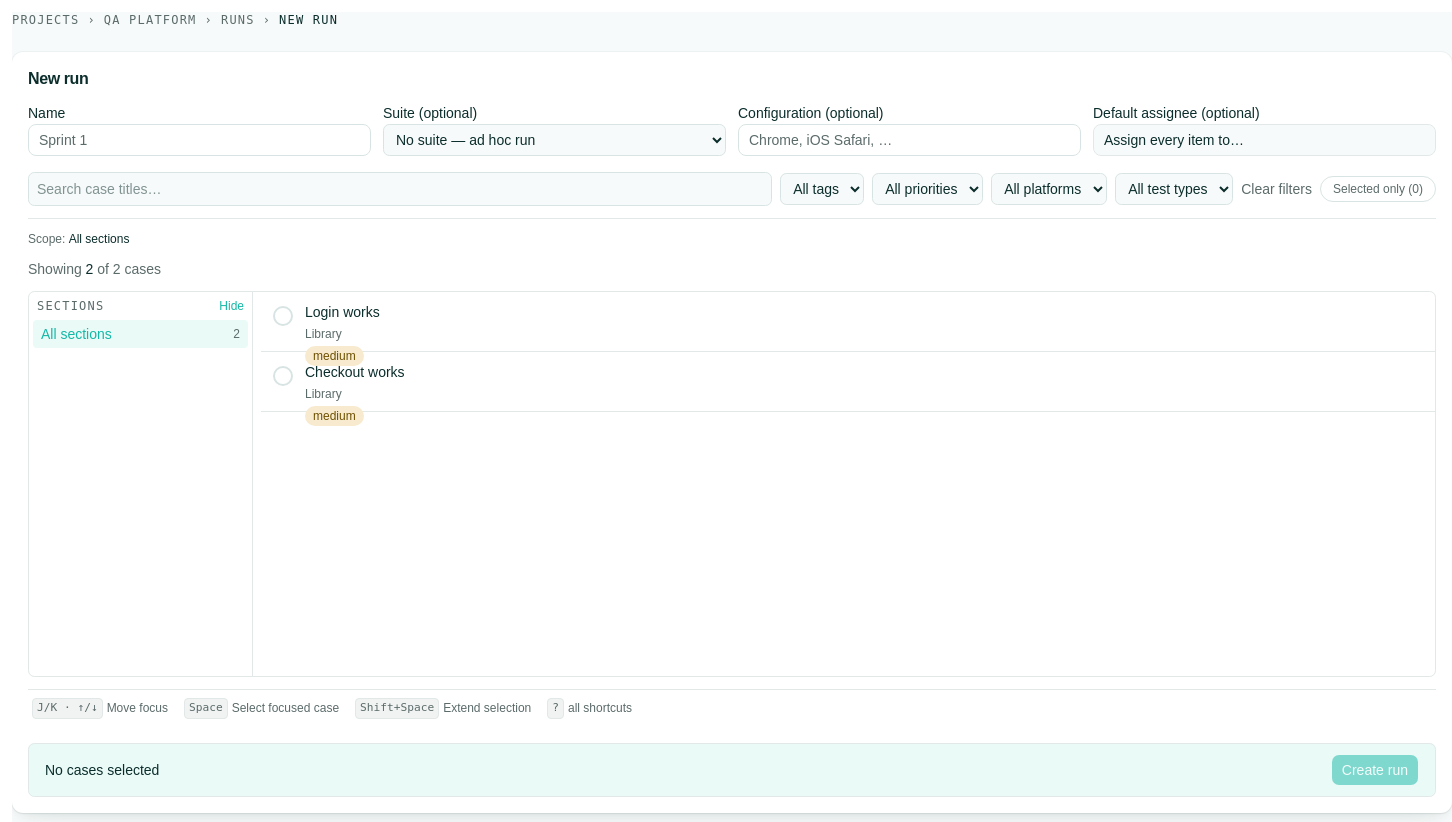
Test: NewRunPage › selecting a suite seeds the selection with its member cases
This screenshot has width=1452, height=822.
Select "Smoke (1 case)" in the dropdown labelled "Suite (optional)": (554, 140) [383,124,726,156]
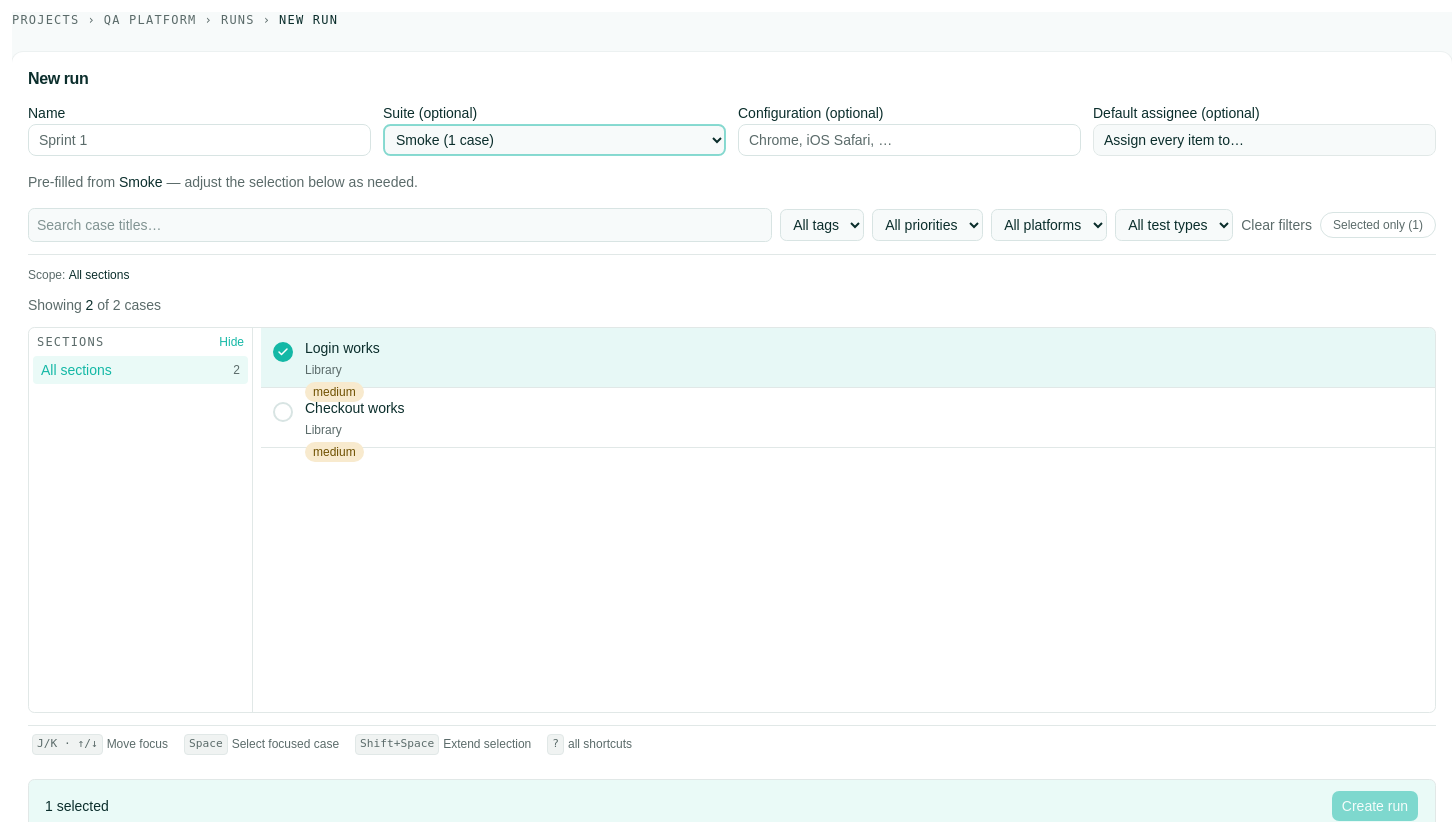
Expected: the checkbox labelled "Checkout works Library medium" is not checked, [261,388,1435,448]
Now the checkbox labelled "Login works Library medium" is checked, box [261,328,1435,388]
